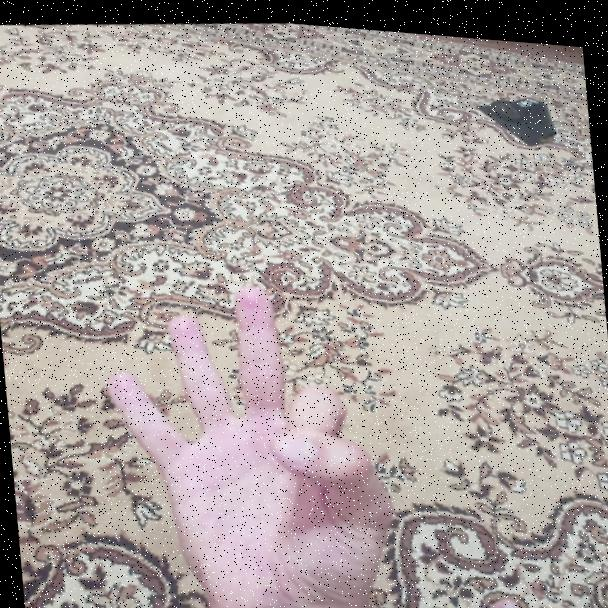five: (92, 253, 408, 608)
